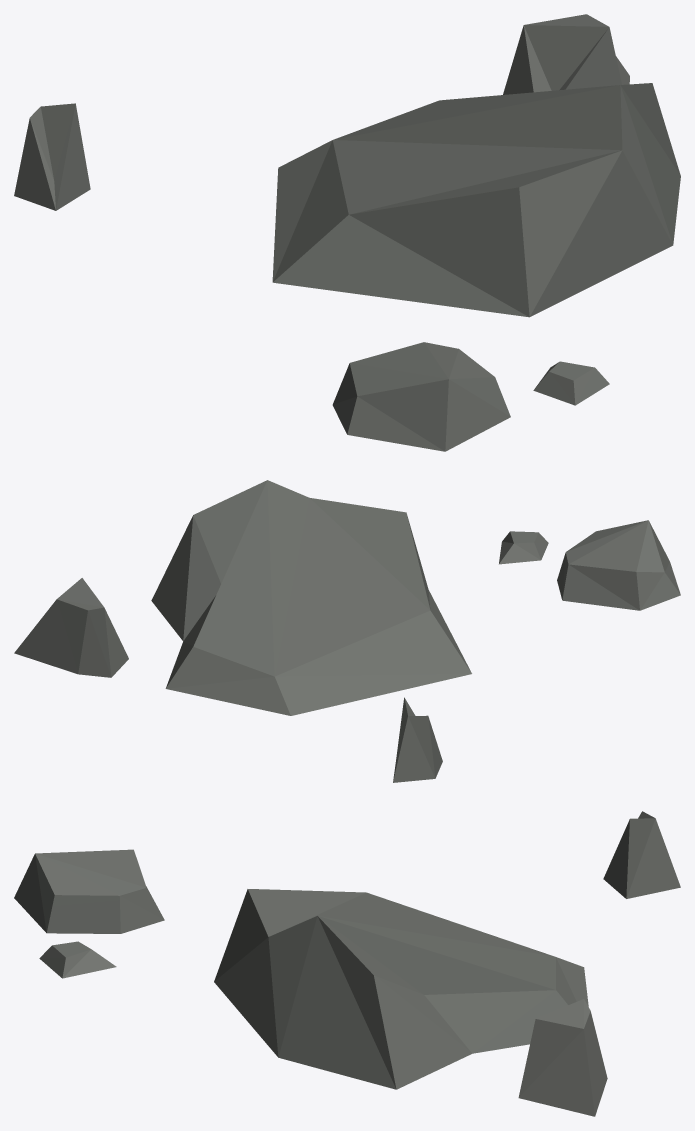
File: Rocks_007.fbx
3 renders of one model, top to bottom at view 1: azimuth 30°, elevation 25°; view 2: azimuth 150°, elevation 25°; view 3: azimuth 270°, elevation 25°, orthographic. The views are drawn at different scales.
Parts seen in each view (by area): view 1: Rocks_007; view 2: Rocks_007; view 3: Rocks_007.
Part boxes in pixels (x1,y1,x2,y2): Rocks_007: (14, 14, 680, 451); Rocks_007: (14, 480, 680, 782); Rocks_007: (14, 811, 680, 1116).
Size of the model in its own units: 43.32 by 10.69 by 49.93.
